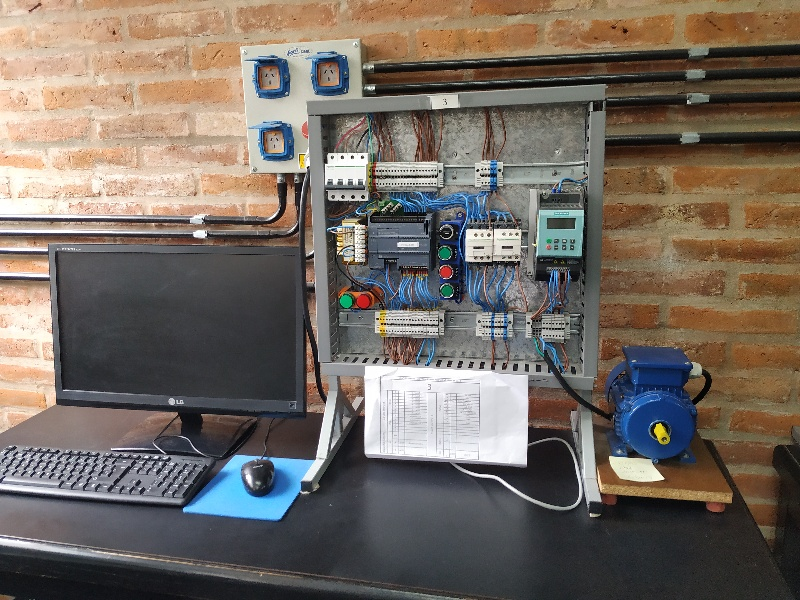Tablero 3: (315, 107, 595, 380)
